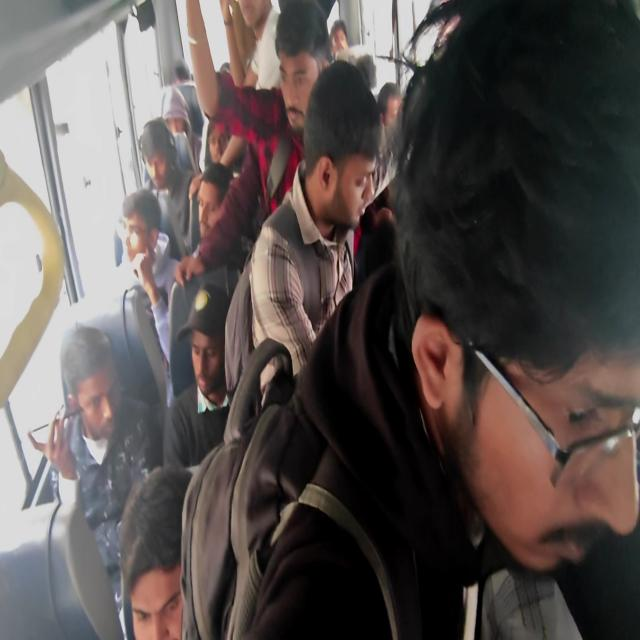person: (179, 0, 639, 638), (245, 59, 382, 402), (178, 0, 334, 282), (28, 322, 160, 634), (0, 148, 65, 410), (118, 463, 193, 639), (162, 282, 232, 469), (120, 188, 180, 372), (174, 162, 246, 290), (139, 116, 198, 252), (162, 84, 202, 174), (328, 18, 348, 59)
